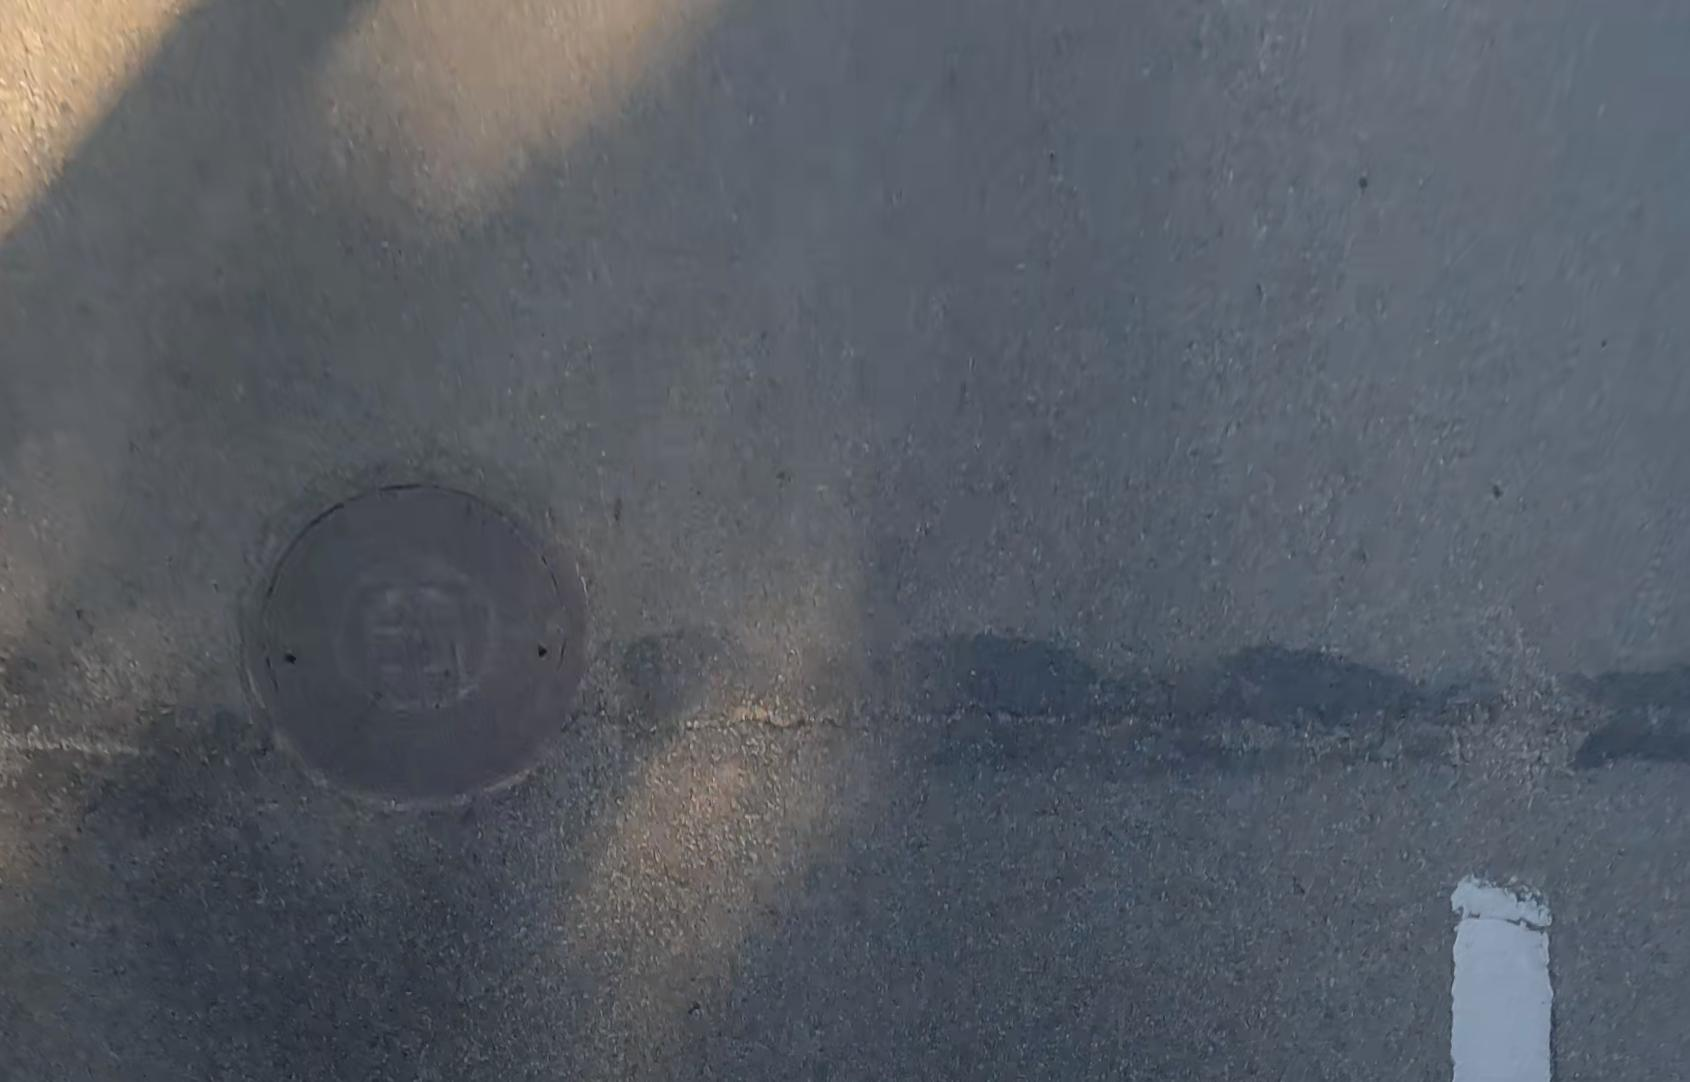pothole_patch_good: (1579, 667, 1690, 769)
pothole_patch_poor: (557, 635, 1513, 783), (0, 657, 289, 813)
